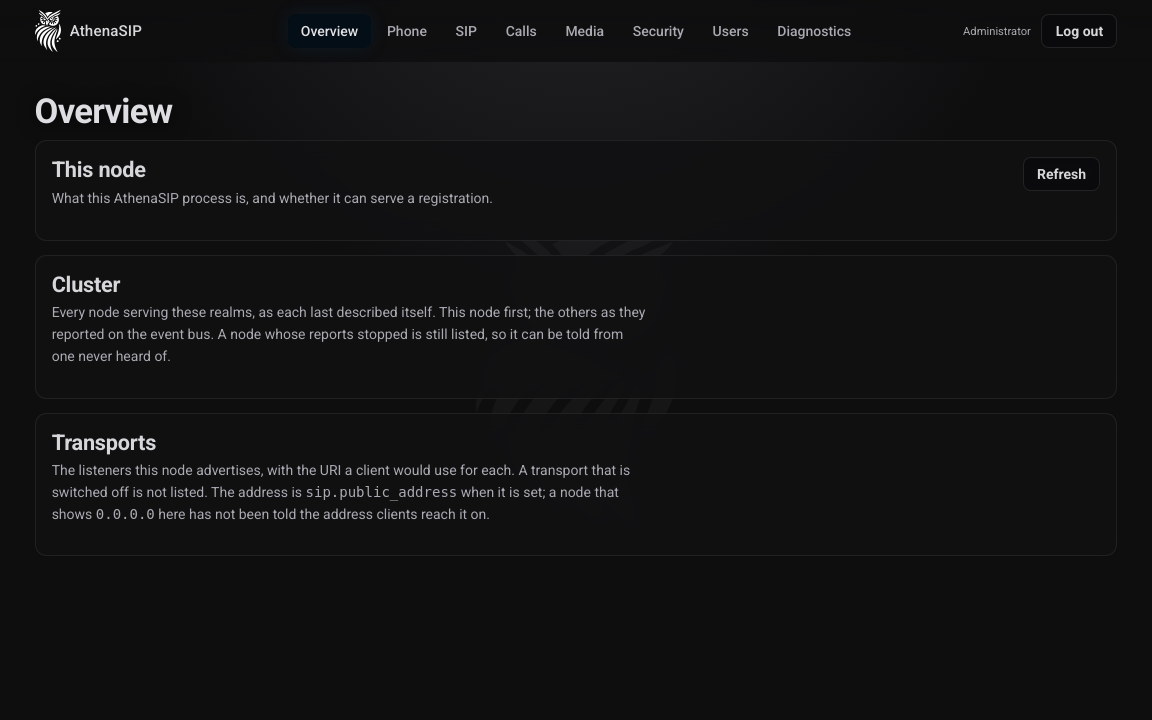
Test: App › logs out on the node as well as here, and a 401 anywhere does the same and says why
Click the button "Log out": click(1079, 31) x1=1041 y1=14 x2=1117 y2=48
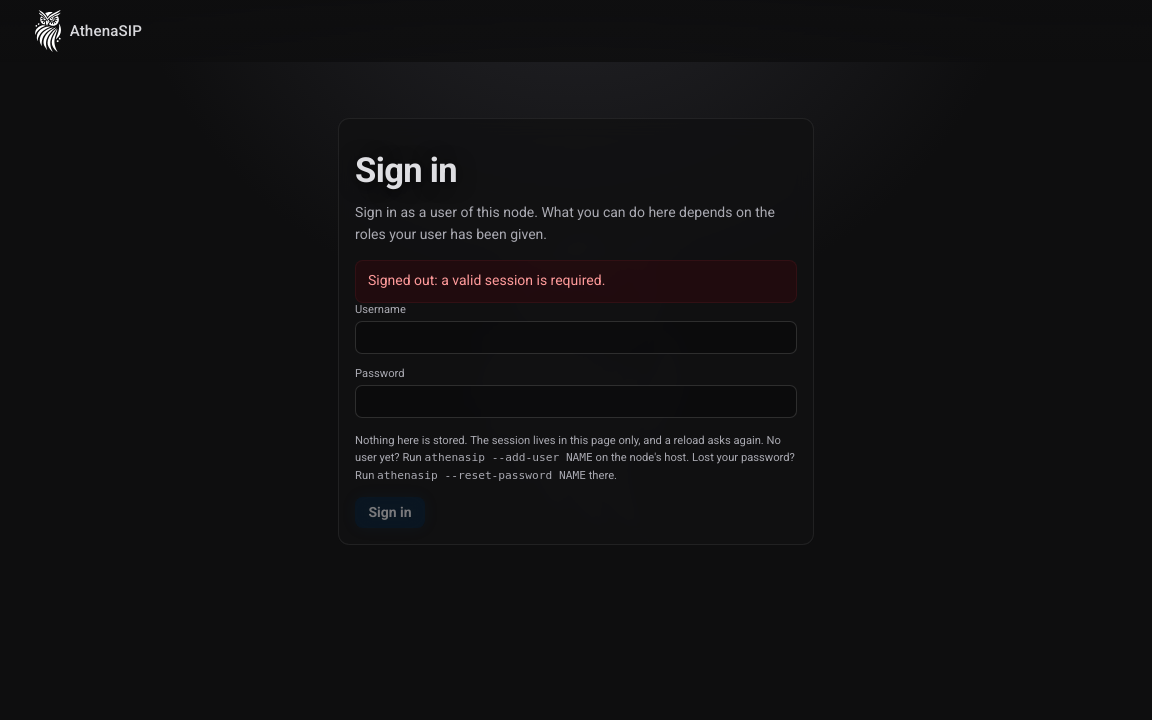
Expected: the heading "Sign in" is shown, x1=355 y1=150 x2=457 y2=190
Expected: the text "Signed out: a valid session is required." is shown, x1=355 y1=260 x2=797 y2=303
